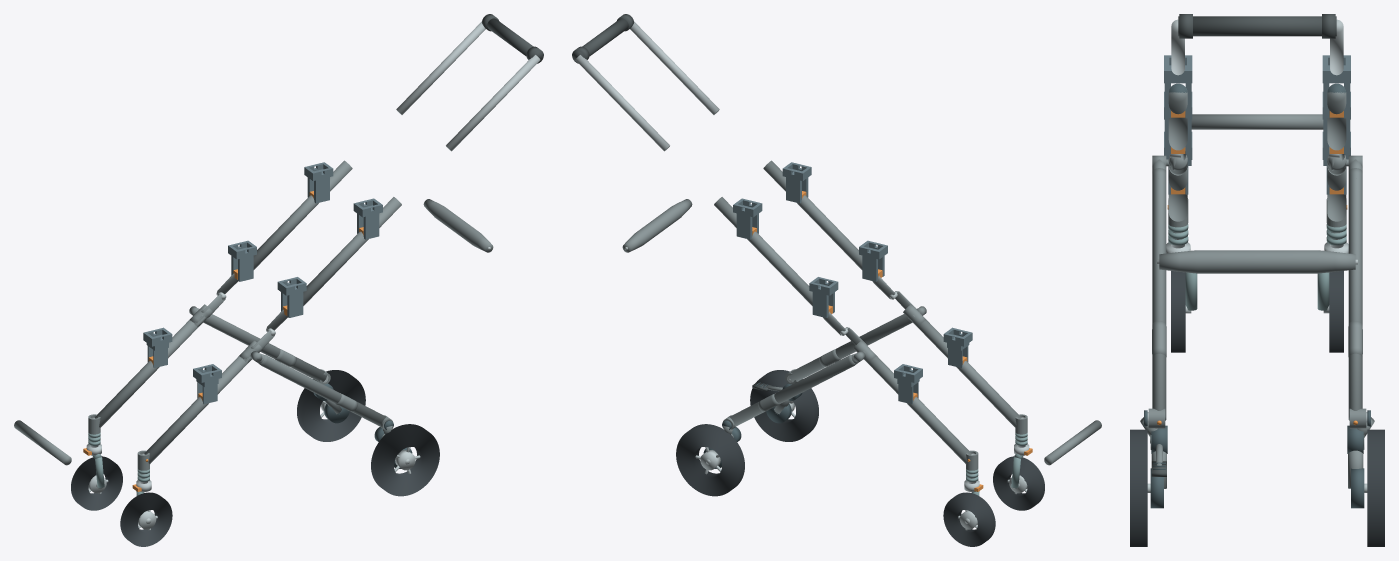
The model's file is w380_state5_wheel_S.glb.
3 views of the same model, side by side, from view 1: azimuth 30°, elevation 25°; view 2: azimuth 150°, elevation 25°; view 3: azimuth 270°, elevation 25° (orthographic). The views are drawn at different scales.
Visible parts, largest first — view 1: RL_tire.002, RR_tire.002, FL_tire.002, FR_tire.002, main_lower_-1.004, main_lower_1.004, V46_rear_leg_-1.004, main_upper_1.004, main_upper_-1.004, V46_rear_leg_1.004, handle_slider_-1.002, V46_rearbar.004 (+9 smaller); view 2: RR_tire.002, RL_tire.002, FR_tire.002, FL_tire.002, main_lower_1.004, main_lower_-1.004, V46_rear_leg_1.004, main_upper_-1.004, main_upper_1.004, V46_rear_leg_-1.004, handle_slider_1.002, V46_rearbar.004 (+9 smaller); view 3: V46_rearbar.004, V46_rear_leg_1.004, V46_rear_leg_-1.004, round_handle.002, RL_tire.002, RR_tire.002, front_fixed_round_tube.002, FL_tire.002, FR_tire.002, main_upper_1.004, main_upper_-1.004, Universal_Cabin_Receiver_H_1 (+20 smaller).
Part boxes in pixels (<box>): RL_tire.002: <box>371,424,439,496</box>; RR_tire.002: <box>297,370,365,441</box>; FL_tire.002: <box>120,492,172,546</box>; FR_tire.002: <box>71,456,122,510</box>; main_lower_-1.004: <box>144,356,250,464</box>; main_lower_1.004: <box>94,316,205,427</box>; V46_rear_leg_-1.004: <box>259,355,385,426</box>; main_upper_1.004: <box>253,160,352,269</box>; main_upper_-1.004: <box>303,197,401,305</box>; V46_rear_leg_1.004: <box>203,314,326,381</box>; handle_slider_-1.002: <box>446,55,540,151</box>; V46_rearbar.004: <box>423,199,493,252</box>; RR_tire.002: <box>676,424,744,496</box>; RL_tire.002: <box>750,370,818,441</box>; FR_tire.002: <box>943,492,995,546</box>; FL_tire.002: <box>993,456,1044,510</box>; main_lower_1.004: <box>865,356,971,464</box>; main_lower_-1.004: <box>910,316,1021,427</box>; V46_rear_leg_1.004: <box>730,355,856,426</box>; main_upper_-1.004: <box>763,160,862,269</box>; main_upper_1.004: <box>714,197,812,305</box>; V46_rear_leg_-1.004: <box>789,314,912,381</box>; handle_slider_1.002: <box>575,55,669,151</box>; V46_rearbar.004: <box>622,199,692,252</box>; V46_rearbar.004: <box>1159,250,1355,273</box>; V46_rear_leg_1.004: <box>1348,168,1362,420</box>; V46_rear_leg_-1.004: <box>1152,168,1166,420</box>; round_handle.002: <box>1178,16,1336,36</box>; RL_tire.002: <box>1130,429,1147,546</box>; RR_tire.002: <box>1367,429,1384,546</box>; front_fixed_round_tube.002: <box>1191,114,1323,129</box>; FL_tire.002: <box>1171,271,1185,352</box>; FR_tire.002: <box>1329,271,1343,352</box>; main_upper_1.004: <box>1327,84,1346,150</box>; main_upper_-1.004: <box>1168,84,1187,150</box>; Universal_Cabin_Receiver_H_1: <box>1322,55,1350,118</box>.
Size of the model in its own units: 1.51 by 1.2 by 0.434.
